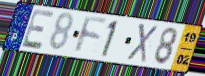1: (99, 19, 120, 58)
8: (47, 11, 76, 53), (153, 26, 179, 67)
E: (20, 8, 57, 51)
F: (74, 14, 109, 55)
X: (125, 22, 159, 64)
